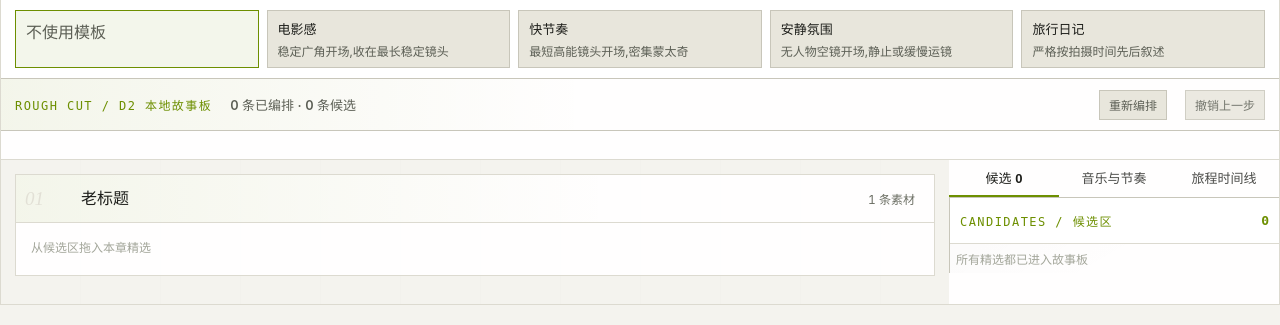
Scenario: story template cards › a kind:"revision" response refetches the storyboard and shows the 未启用 AI notice
Click the button "电影感 稳定广角开场,收在最长稳定镜头": coordinates (388, 39) [267, 10, 510, 68]
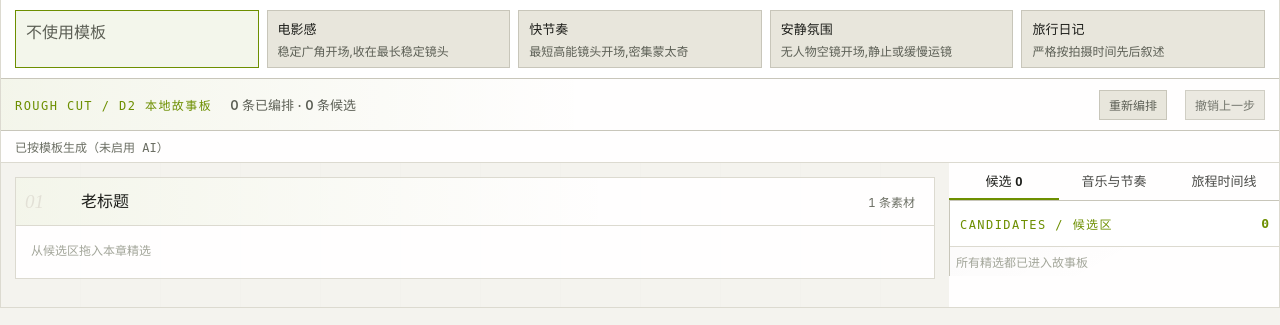
Result: the text "已按模板生成（未启用 AI）" is shown at [1, 131, 1279, 163]
